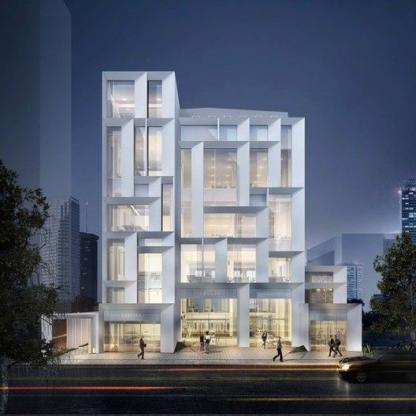Building Outline: (41, 70, 362, 355)
Door: (52, 319, 91, 355), (125, 322, 141, 352), (201, 319, 218, 346), (321, 322, 336, 351), (257, 319, 269, 346)
Facade: (41, 70, 362, 355)
Glass Wall: (203, 148, 237, 206), (269, 194, 292, 251), (181, 244, 215, 282), (203, 213, 256, 237), (138, 253, 163, 303), (107, 204, 149, 231), (227, 244, 256, 282), (107, 81, 135, 118), (107, 126, 121, 197), (181, 148, 192, 237), (107, 238, 125, 280), (148, 126, 163, 176), (250, 148, 268, 187), (269, 257, 292, 283), (148, 81, 163, 118), (134, 126, 145, 176), (162, 183, 173, 231), (181, 126, 217, 140), (281, 148, 292, 187), (305, 289, 333, 303), (107, 288, 125, 303), (250, 126, 268, 140), (221, 126, 237, 140), (138, 238, 163, 246), (135, 183, 149, 197)
Shop: (180, 289, 238, 346), (103, 309, 161, 352), (250, 289, 292, 346), (310, 310, 347, 350)
